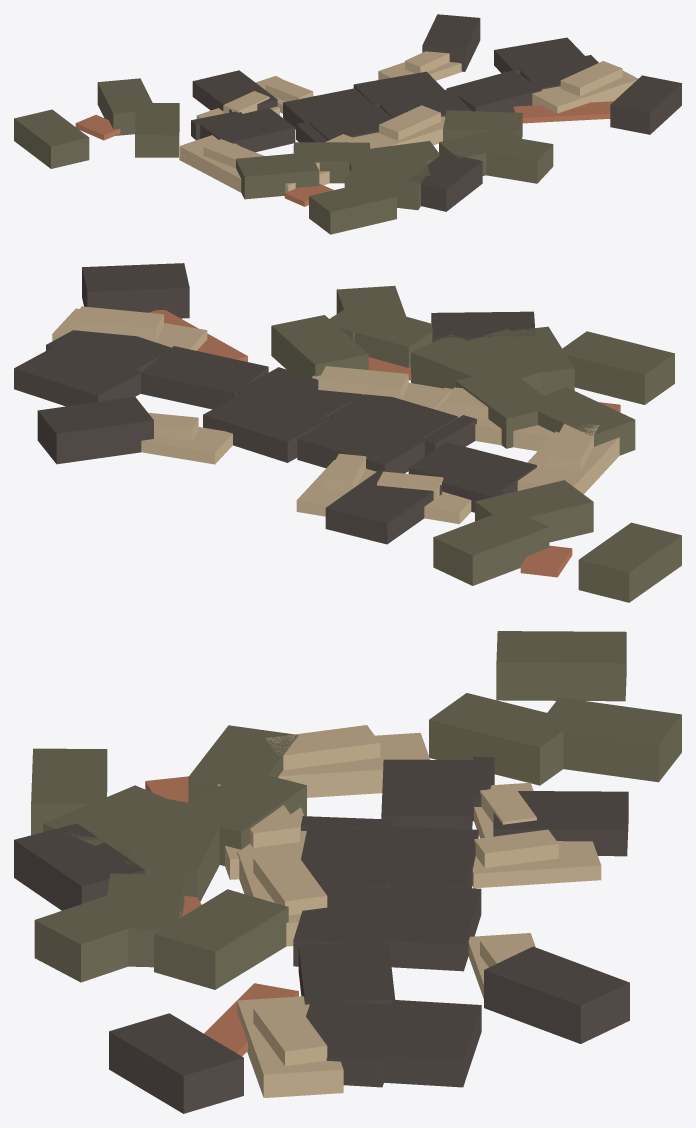
The model's file is SM_SacosRemate_v3_Tablon_e3_Brecha_LOD0.fbx.
The picture shows the model from 3 angles, top to bottom: view 1: azimuth 30°, elevation 25°; view 2: azimuth 150°, elevation 25°; view 3: azimuth 270°, elevation 25°; orthographic projection. The views are drawn at different scales.
Parts seen in each view (by area): view 1: SM_sacos_piezas_v35_LOD0; view 2: SM_sacos_piezas_v35_LOD0; view 3: SM_sacos_piezas_v35_LOD0.
Boxes of the visible parts, x1,y1,x2,y2 form: SM_sacos_piezas_v35_LOD0: [14, 14, 681, 234]; SM_sacos_piezas_v35_LOD0: [14, 263, 681, 602]; SM_sacos_piezas_v35_LOD0: [14, 631, 681, 1113].
Bounding box in the file's own units: 6.52 × 0.26 × 4.14.
